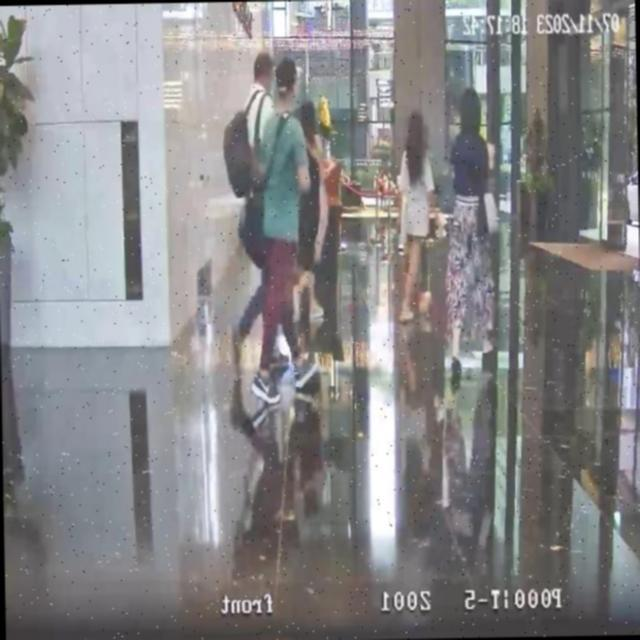person: (244, 56, 314, 411), (445, 87, 496, 350), (289, 100, 340, 322), (394, 110, 439, 324), (376, 165, 386, 211)
